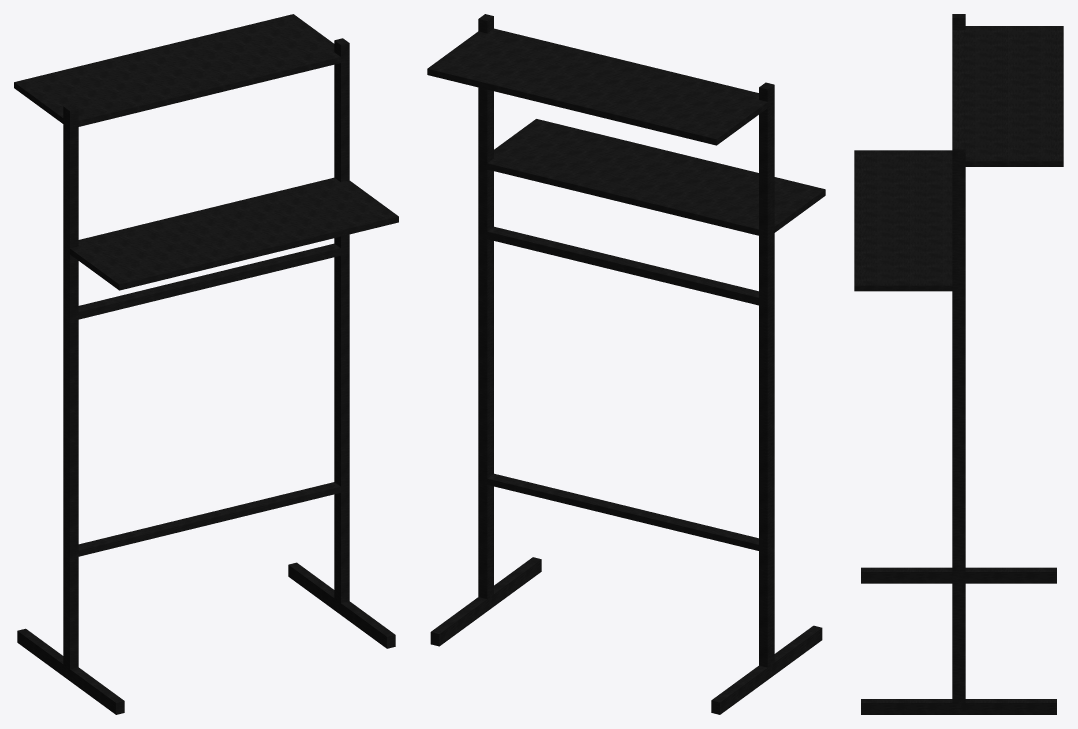
The model's file is czarny stojak013.fbx.
The picture shows the model from 3 angles, left to right: view 1: azimuth 30°, elevation 25°; view 2: azimuth 150°, elevation 25°; view 3: azimuth 270°, elevation 25°; orthographic projection. The views are drawn at different scales.
Parts seen in each view (by area): view 1: czarny stojak013; view 2: czarny stojak013; view 3: czarny stojak013.
Boxes of the visible parts, x1,y1,x2,y2 form: czarny stojak013: (14, 14, 398, 714); czarny stojak013: (427, 14, 825, 714); czarny stojak013: (854, 14, 1063, 714).
Size of the model in its own units: 38.58 by 75.2 by 25.2.
